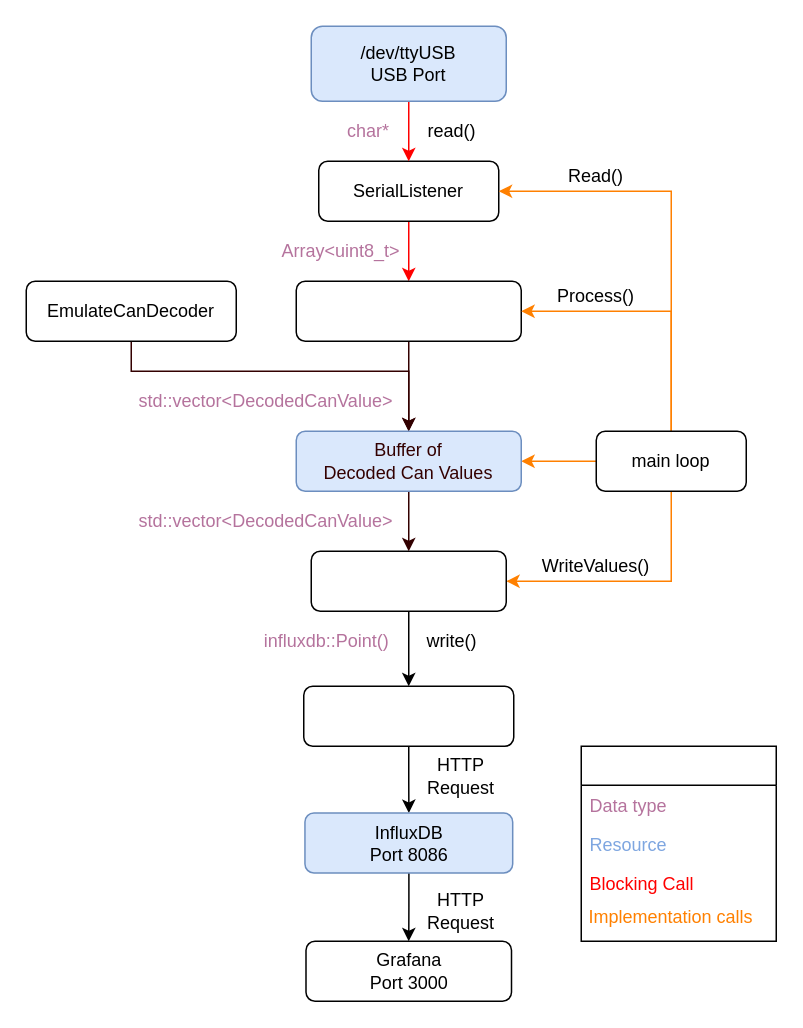
Some shapes in this 803 by 1028 pixel diagram are drawn without their labels. Here are the shapes that lost their labels. From the top down, the box of each, then its label:
(295, 280, 521, 341): RawDataCanDecoder
(310, 550, 506, 611): InfluxInserter
(302, 685, 514, 746): influxdb::InfluxDB
(580, 745, 776, 941): LEGEND
